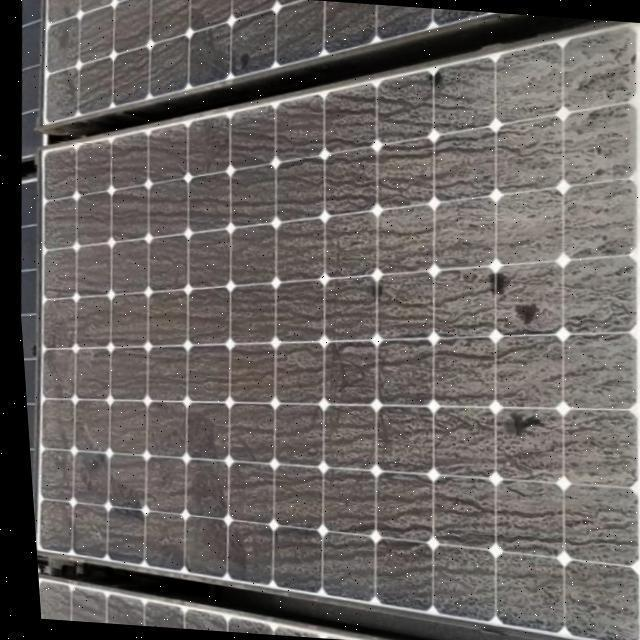Anomaly Solar Panel: (25, 20, 640, 640), (36, 0, 531, 125)
Surface Contaminant: (27, 20, 640, 640), (36, 0, 531, 130), (30, 575, 393, 640)
